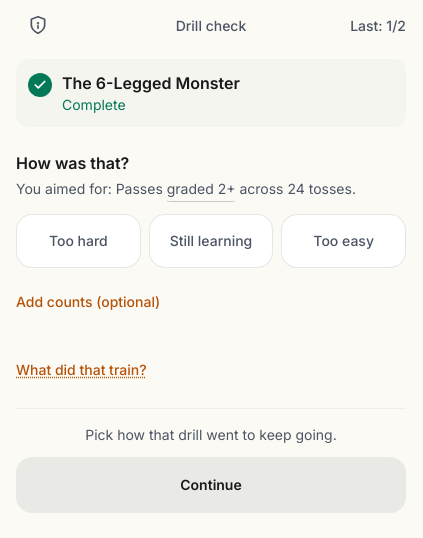
Test: DrillCheckScreen rung reflection (D177) › renders the reflection on a count-eligible technique support slot (no block-type gate)
expect the element with test id "per-drill-capture" is shown: met, box 16,151 -> 406,324
Click the button with test id "drill-check-reflection-trigger". click: {"x": 81, "y": 370}
box: 16,348 -> 146,392
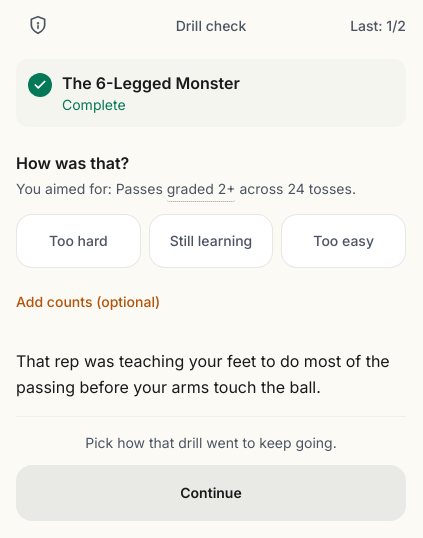
expect the text with test id "drill-check-reflection" shows "That rep was teaching your feet to do most of the passing before your arms touch the ball.": met, box 16,351 -> 390,397
